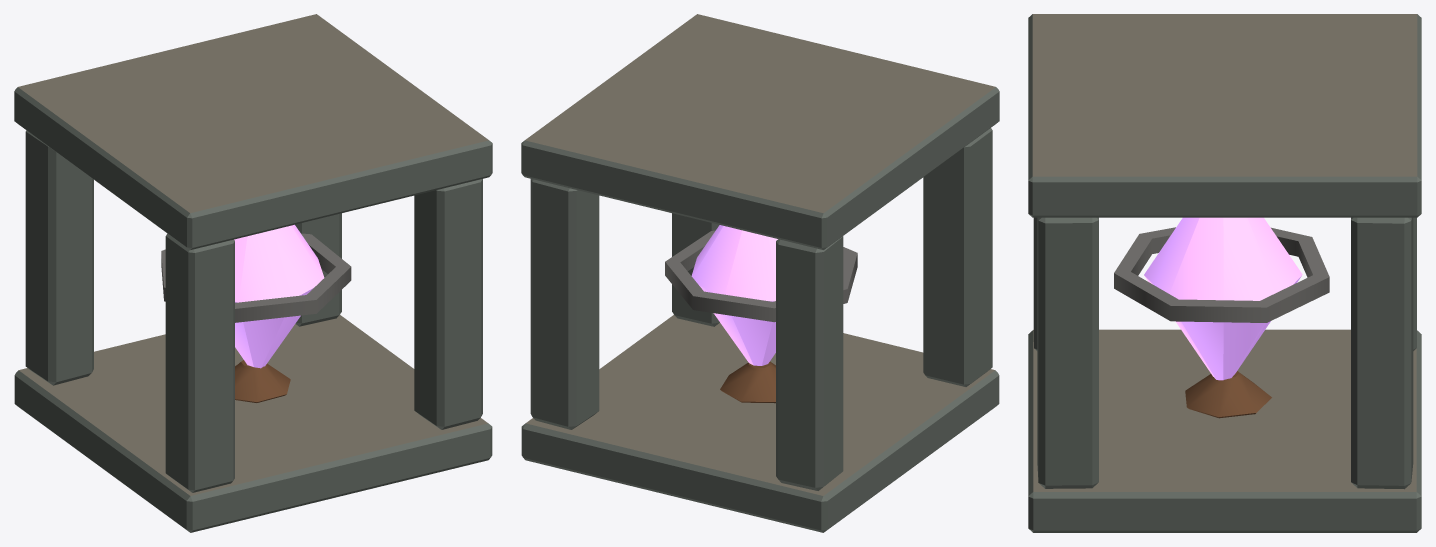
File: R4X_CoreBooster_LOD1.fbx
The picture shows the model from 3 angles, left to right: view 1: azimuth 30°, elevation 25°; view 2: azimuth 150°, elevation 25°; view 3: azimuth 270°, elevation 25°; orthographic projection. The views are drawn at different scales.
Visible parts, largest first — view 1: R4X_CoreBooster_LOD1; view 2: R4X_CoreBooster_LOD1; view 3: R4X_CoreBooster_LOD1.
Boxes of the visible parts, <box> form: R4X_CoreBooster_LOD1: <box>14,14,492,532</box>; R4X_CoreBooster_LOD1: <box>521,14,999,532</box>; R4X_CoreBooster_LOD1: <box>1028,14,1421,532</box>.
Size of the model in its own units: 0.52 by 0.52 by 0.52.
